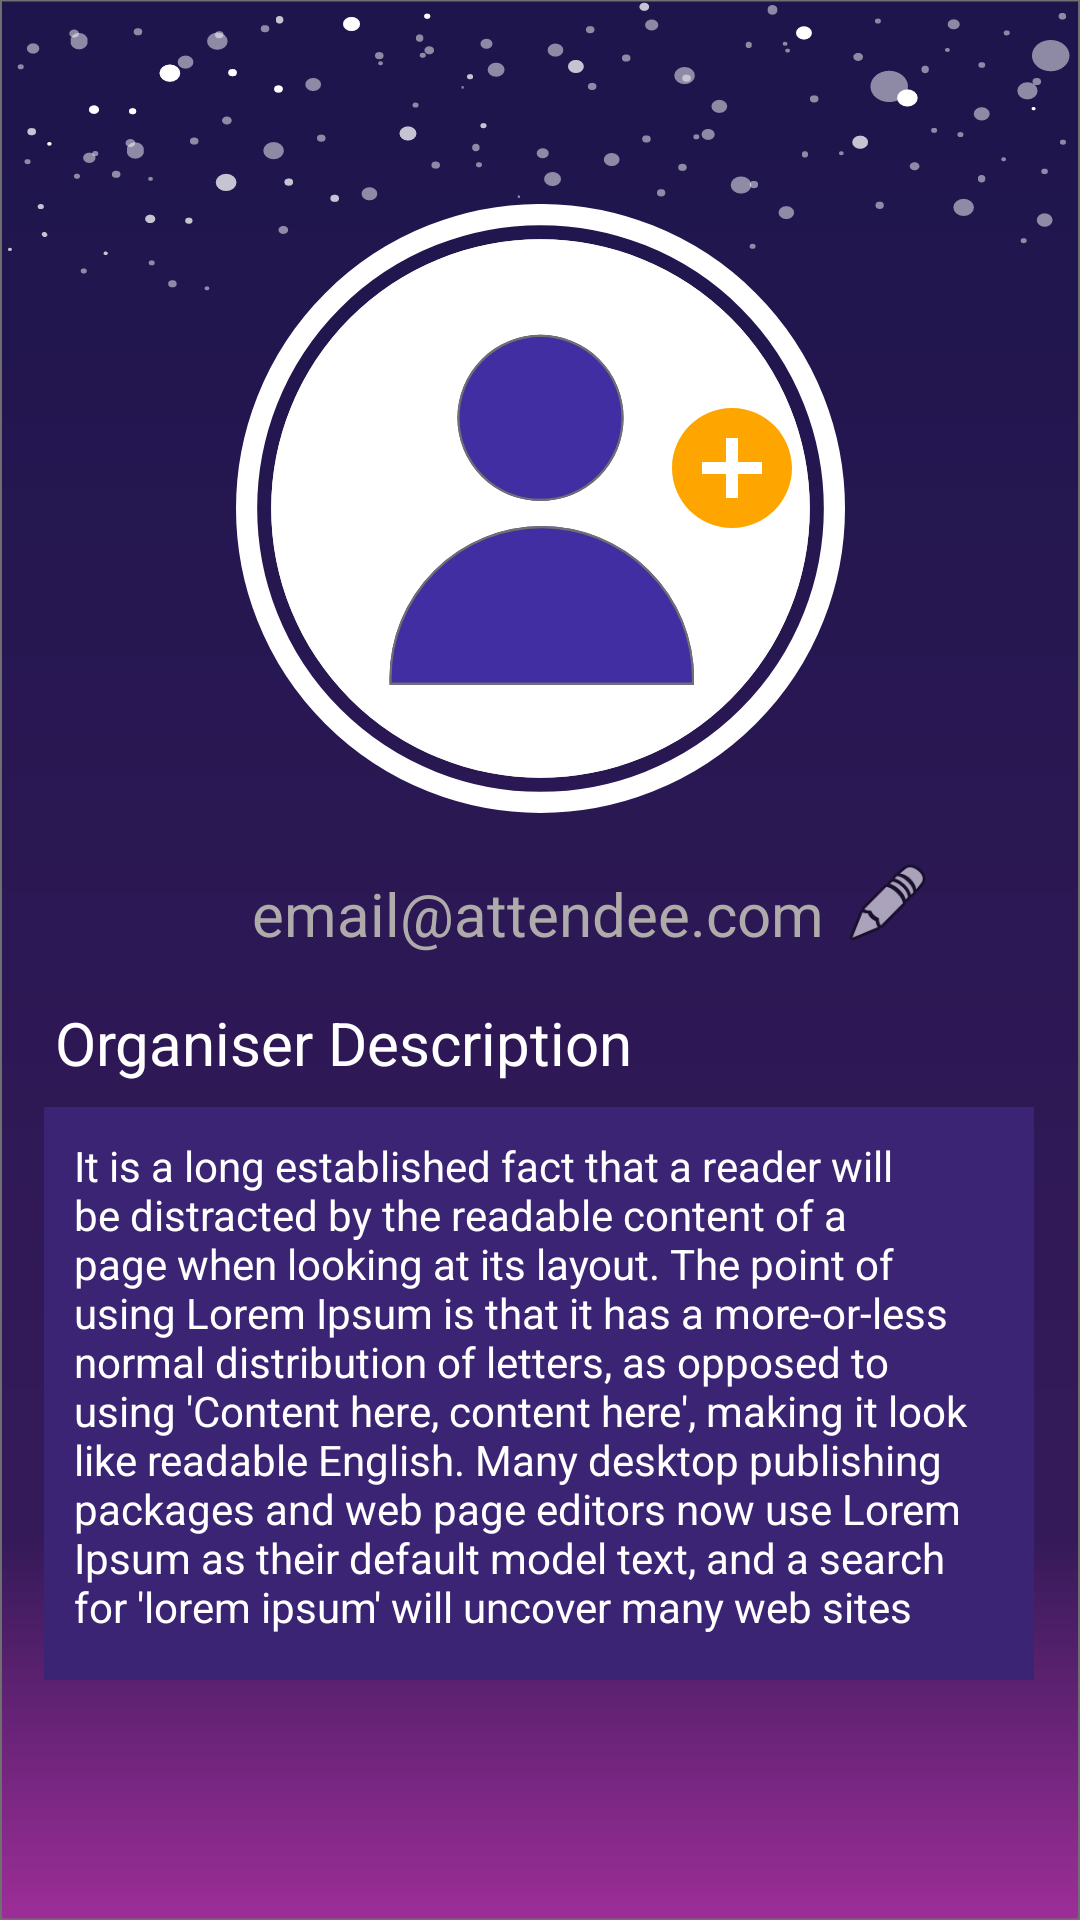

Point at icon controls on the screen. Image size 1080w x 1920h, points as [x,y].
edit: [887,902]
